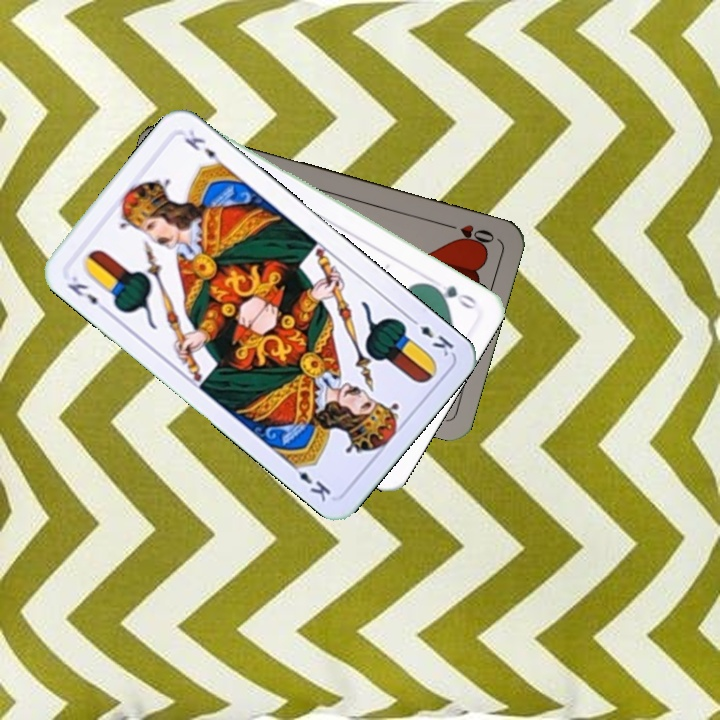EK: (405, 312, 456, 359), (63, 272, 111, 316)
GO: (424, 280, 480, 312)
HO: (441, 219, 497, 250)
